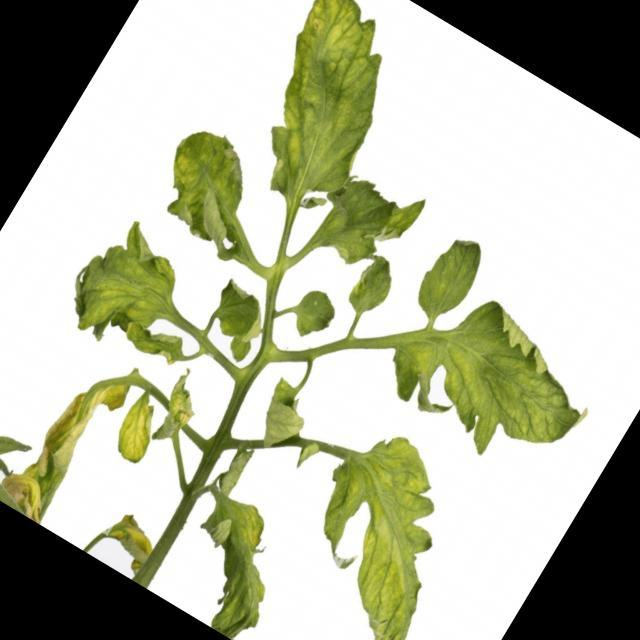Tomato mosaic virus leaf: (247, 413, 510, 640), (368, 266, 616, 496), (209, 0, 437, 225), (147, 432, 339, 640), (0, 334, 145, 530), (49, 205, 199, 368), (139, 116, 268, 252), (300, 155, 429, 286), (106, 386, 176, 469)
